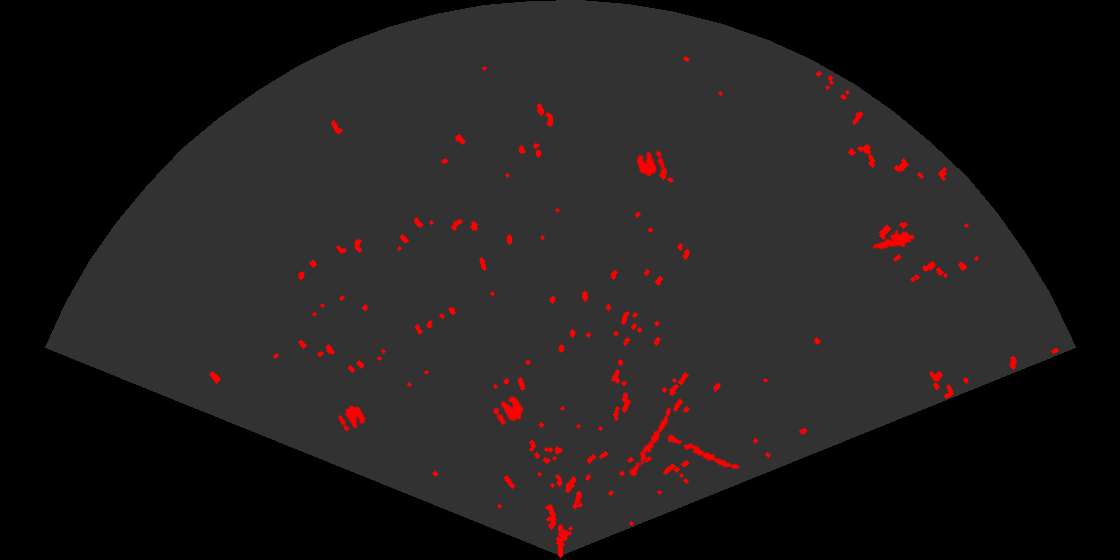ball: (491, 394, 525, 427), (635, 149, 667, 178), (337, 404, 367, 433)
chain: (624, 406, 673, 485), (659, 431, 742, 471)
frogman: (872, 228, 914, 251)
